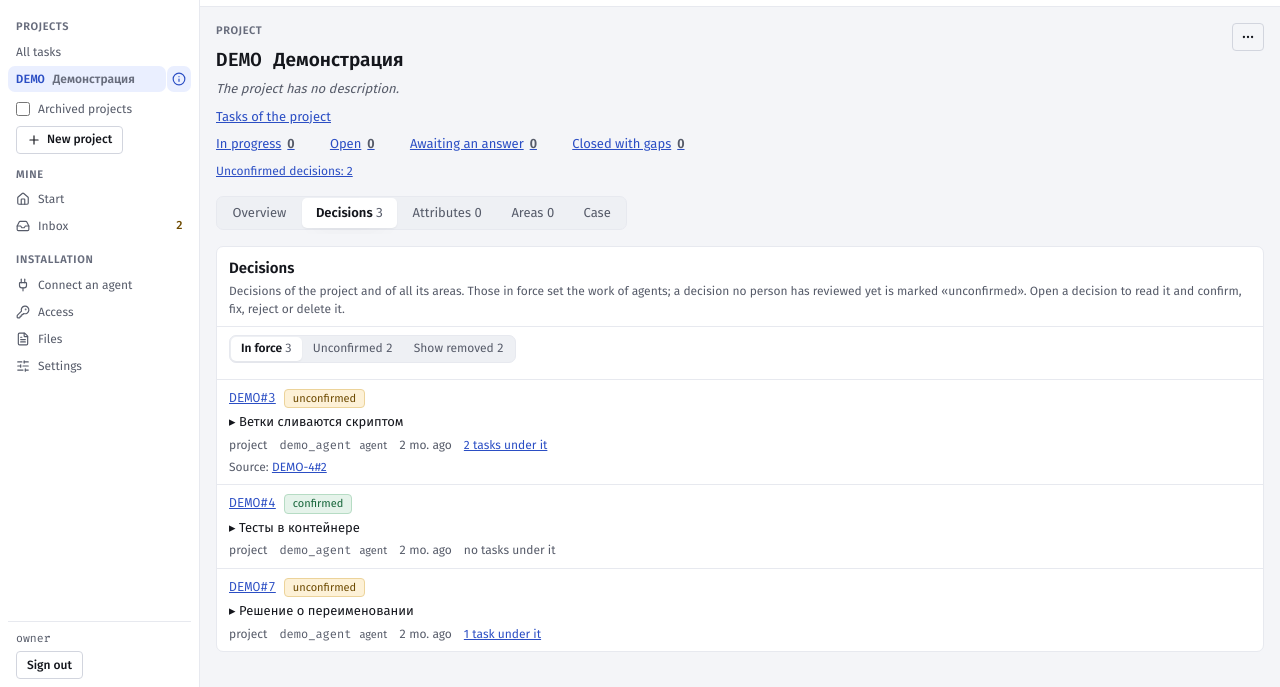
вкладка «Решения» проекта › «Отклонить» у решения, что заменило другое, говорит: прежнее не вернётся, и называет задачи
The image size is (1280, 687).
Click the button "Решение о переименовании": coordinates (326, 611) 229,601 -> 1251,621
(page scrolled)
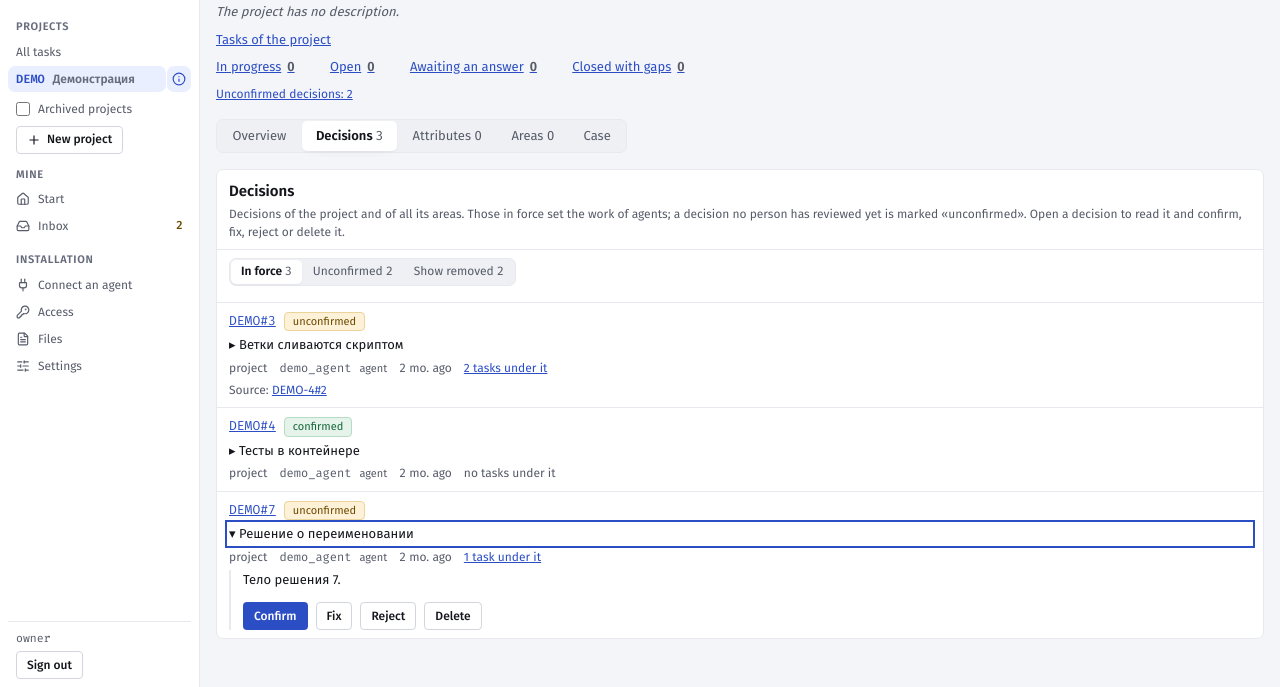
Click the button "Reject": coordinates (388, 616) 360,602 -> 416,630
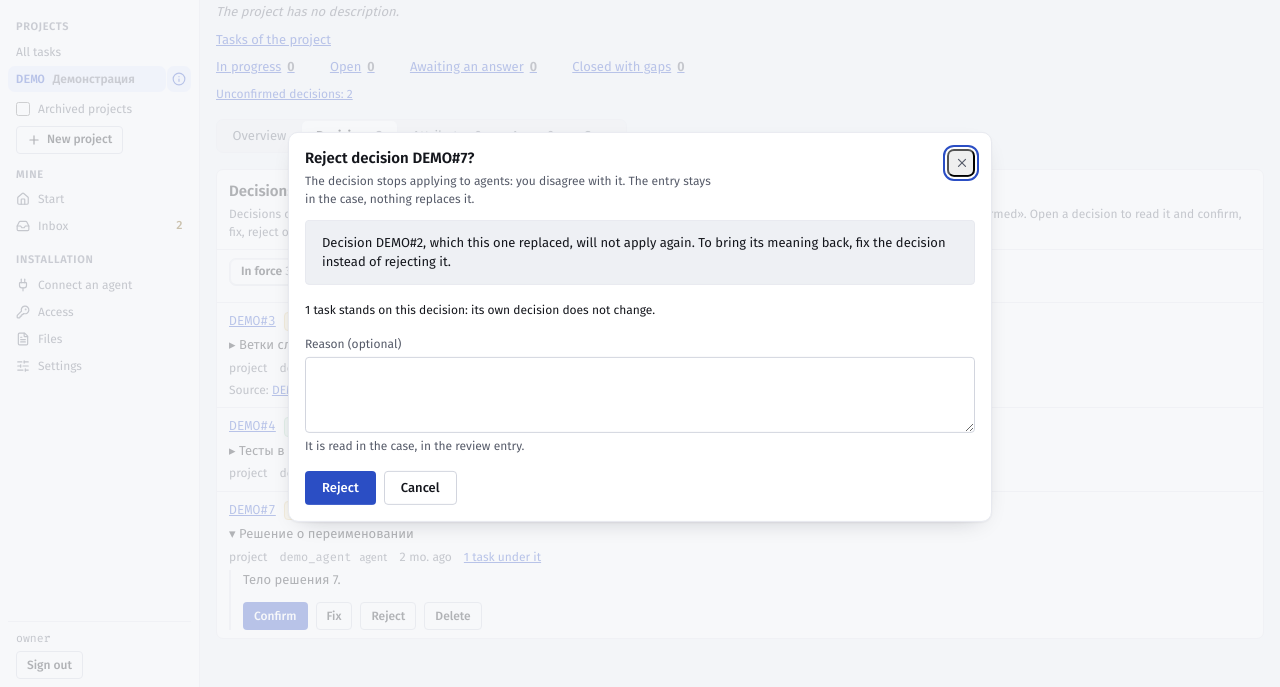
In the text box labelled "Reason (optional)": coordinates (640, 395) 305,357 -> 975,433, type "Не согласен"
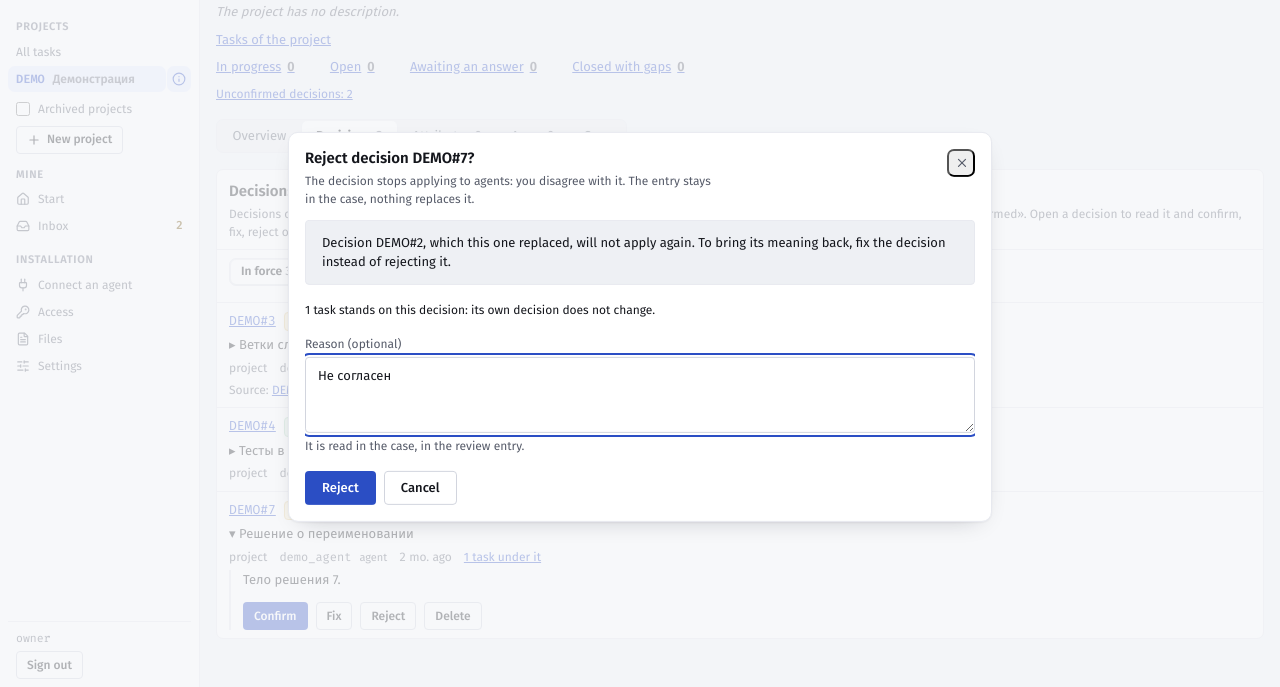
Click the button "Reject": coordinates (340, 488) 305,471 -> 376,505
(page scrolled)
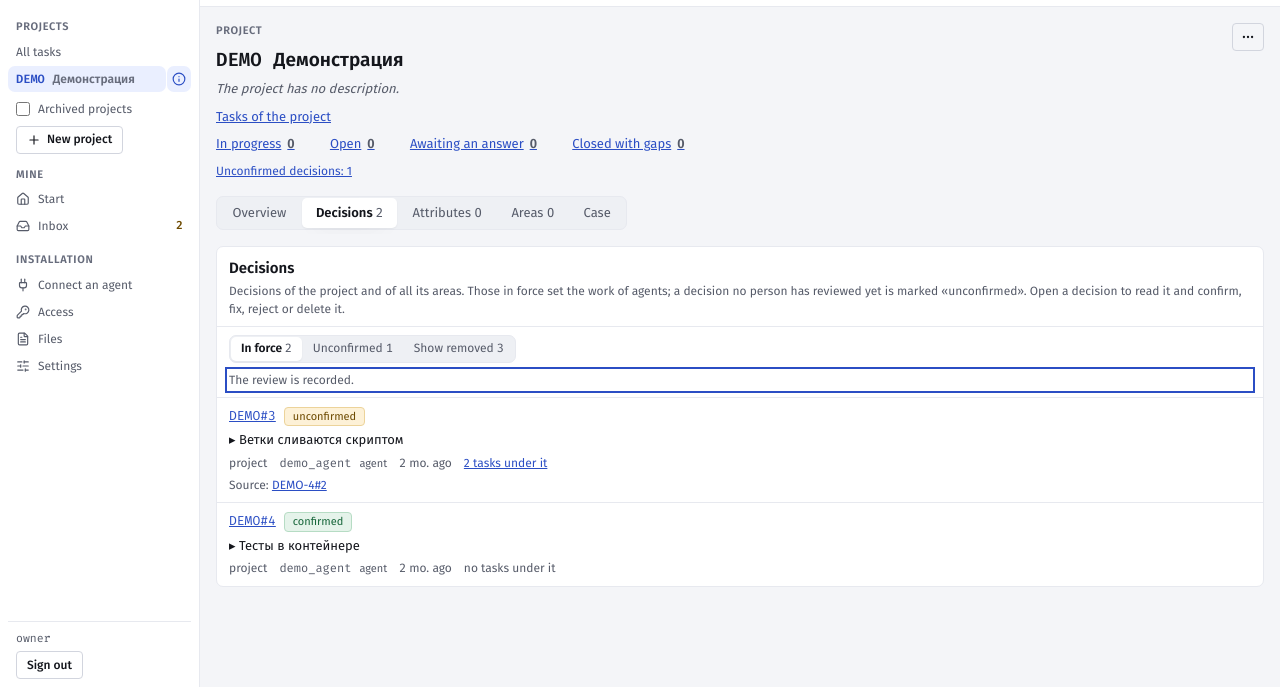
Expected: the dialog is gone
